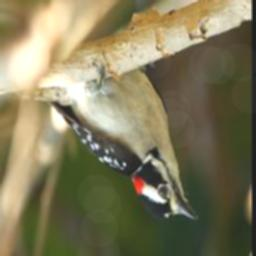Woodpecker: (14, 56, 199, 231)
